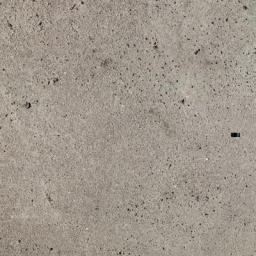FOD: (227, 131, 243, 142)
